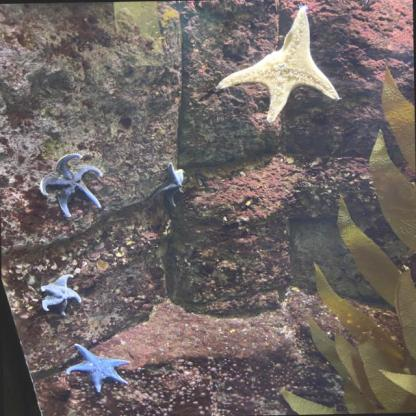starfish: (216, 4, 340, 123), (39, 153, 102, 217), (66, 343, 130, 392), (41, 274, 80, 315), (150, 163, 184, 206)
